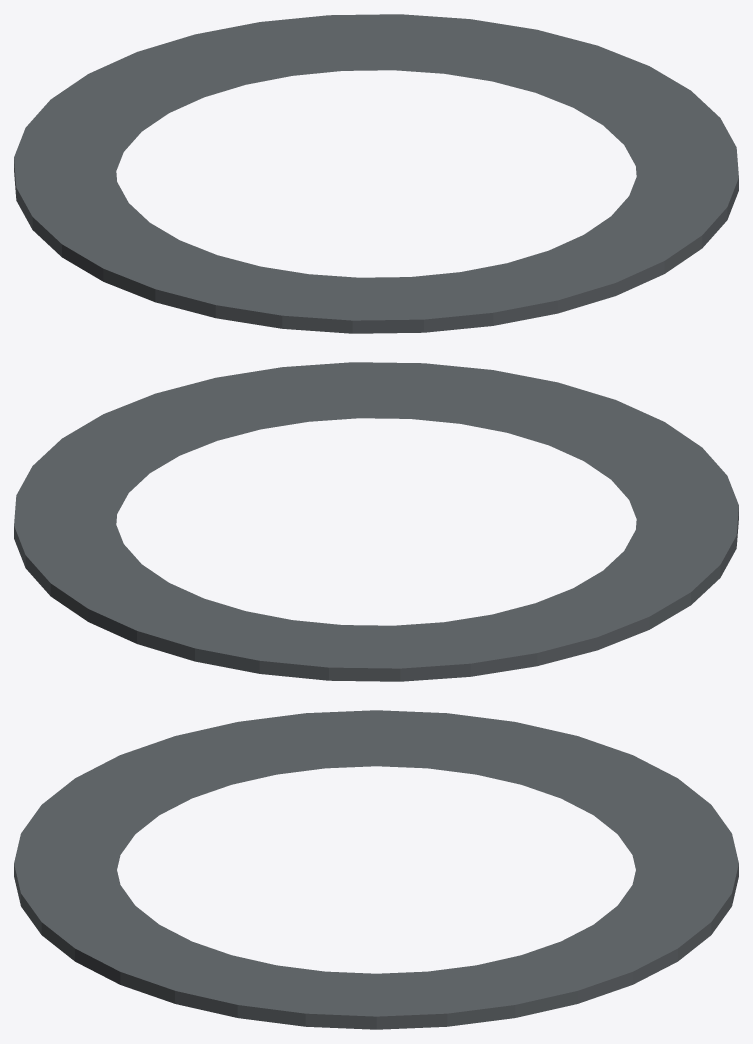
Rendered from LamparaDet.obj.
The picture shows the model from 3 angles, top to bottom: view 1: azimuth 30°, elevation 25°; view 2: azimuth 150°, elevation 25°; view 3: azimuth 270°, elevation 25°; orthographic projection.
Parts seen in each view (by area): view 1: Lampstrings; view 2: Lampstrings; view 3: Lampstrings.
Boxes of the visible parts, x1=… form: Lampstrings: x1=14, y1=14, x2=738, y2=333; Lampstrings: x1=14, y1=362, x2=738, y2=681; Lampstrings: x1=14, y1=710, x2=738, y2=1029.
Size of the model in its own units: 0.195 by 0.0039 by 0.195.
Materials: 1 (1 with a texture image).
